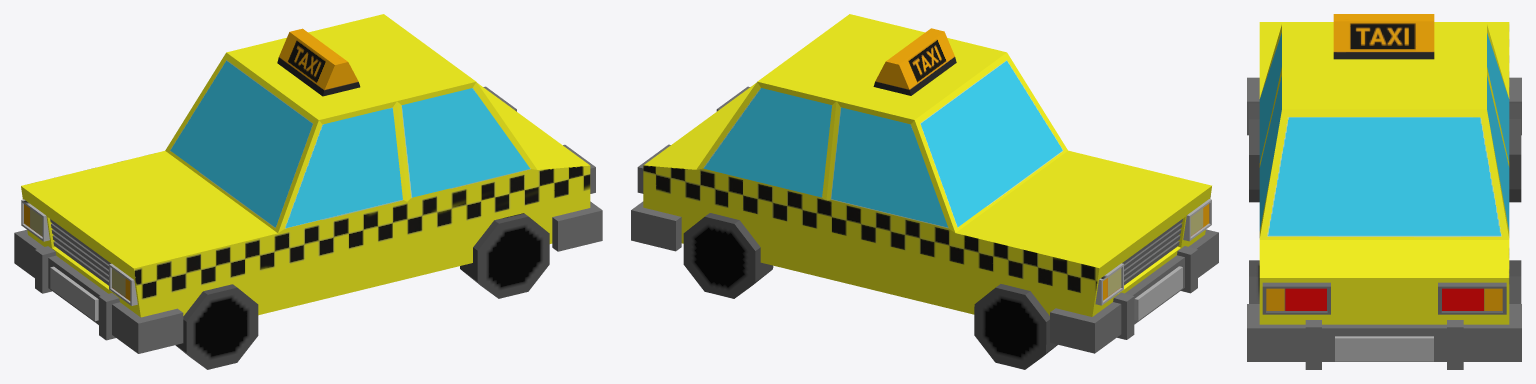
The model's file is Taxi.fbx.
The picture shows the model from 3 angles, left to right: view 1: azimuth 30°, elevation 25°; view 2: azimuth 150°, elevation 25°; view 3: azimuth 270°, elevation 25°; orthographic projection. The views are drawn at different scales.
Parts seen in each view (by area): view 1: Cylinder.002, Taxi (B-L), Taxi (F-L); view 2: Cylinder.002, Taxi (B-R), Taxi (F-R); view 3: Cylinder.002, Taxi (F-R), Taxi (F-L), Taxi (B-R), Taxi (B-L).
Part boxes in pixels (left/top/right/bottom): Cylinder.002: left=14, top=14, right=602, bottom=353; Taxi (B-L): left=460, top=213, right=549, bottom=298; Taxi (F-L): left=175, top=284, right=258, bottom=369; Cylinder.002: left=631, top=14, right=1218, bottom=353; Taxi (B-R): left=683, top=213, right=773, bottom=298; Taxi (F-R): left=974, top=284, right=1057, bottom=369; Cylinder.002: left=1247, top=14, right=1521, bottom=369; Taxi (F-R): left=1509, top=103, right=1521, bottom=202; Taxi (F-L): left=1249, top=103, right=1259, bottom=202; Taxi (B-R): left=1509, top=260, right=1521, bottom=303; Taxi (B-L): left=1249, top=260, right=1259, bottom=303.
Size of the model in its own units: 287 by 135 by 129.
5 materials, 5 textured.
